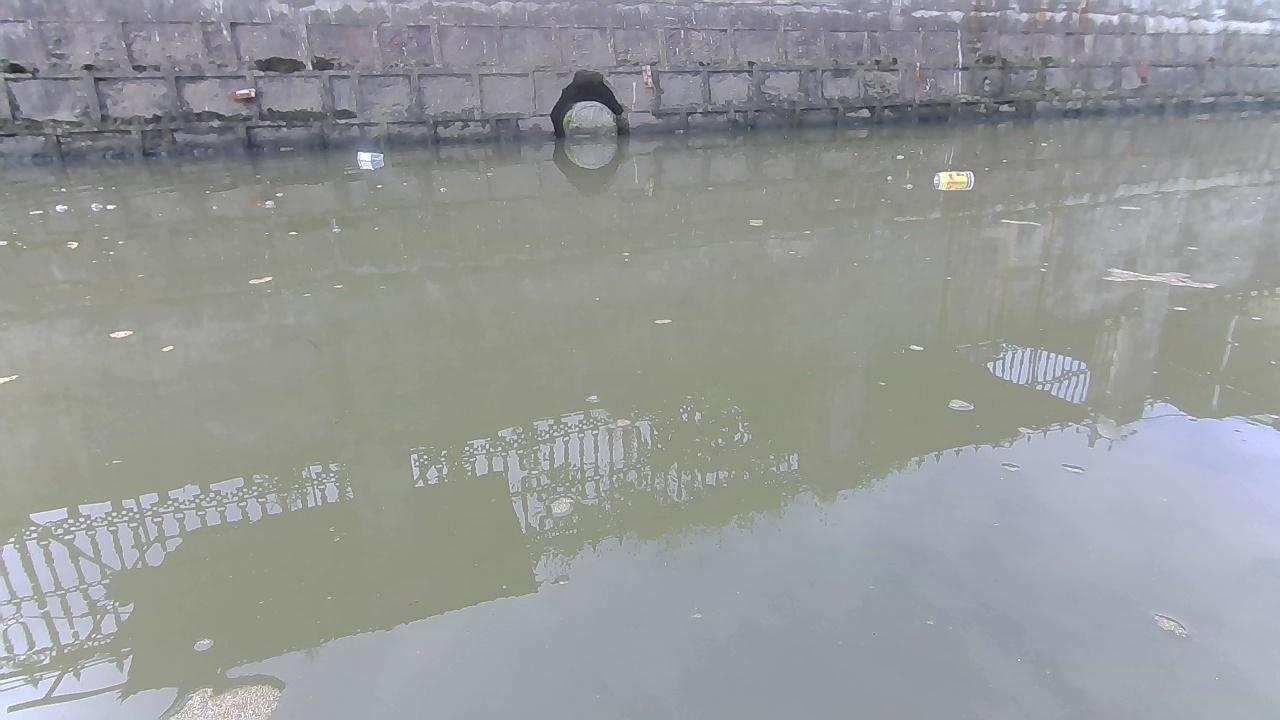bottle: (932, 168, 976, 189), (350, 152, 387, 169)
